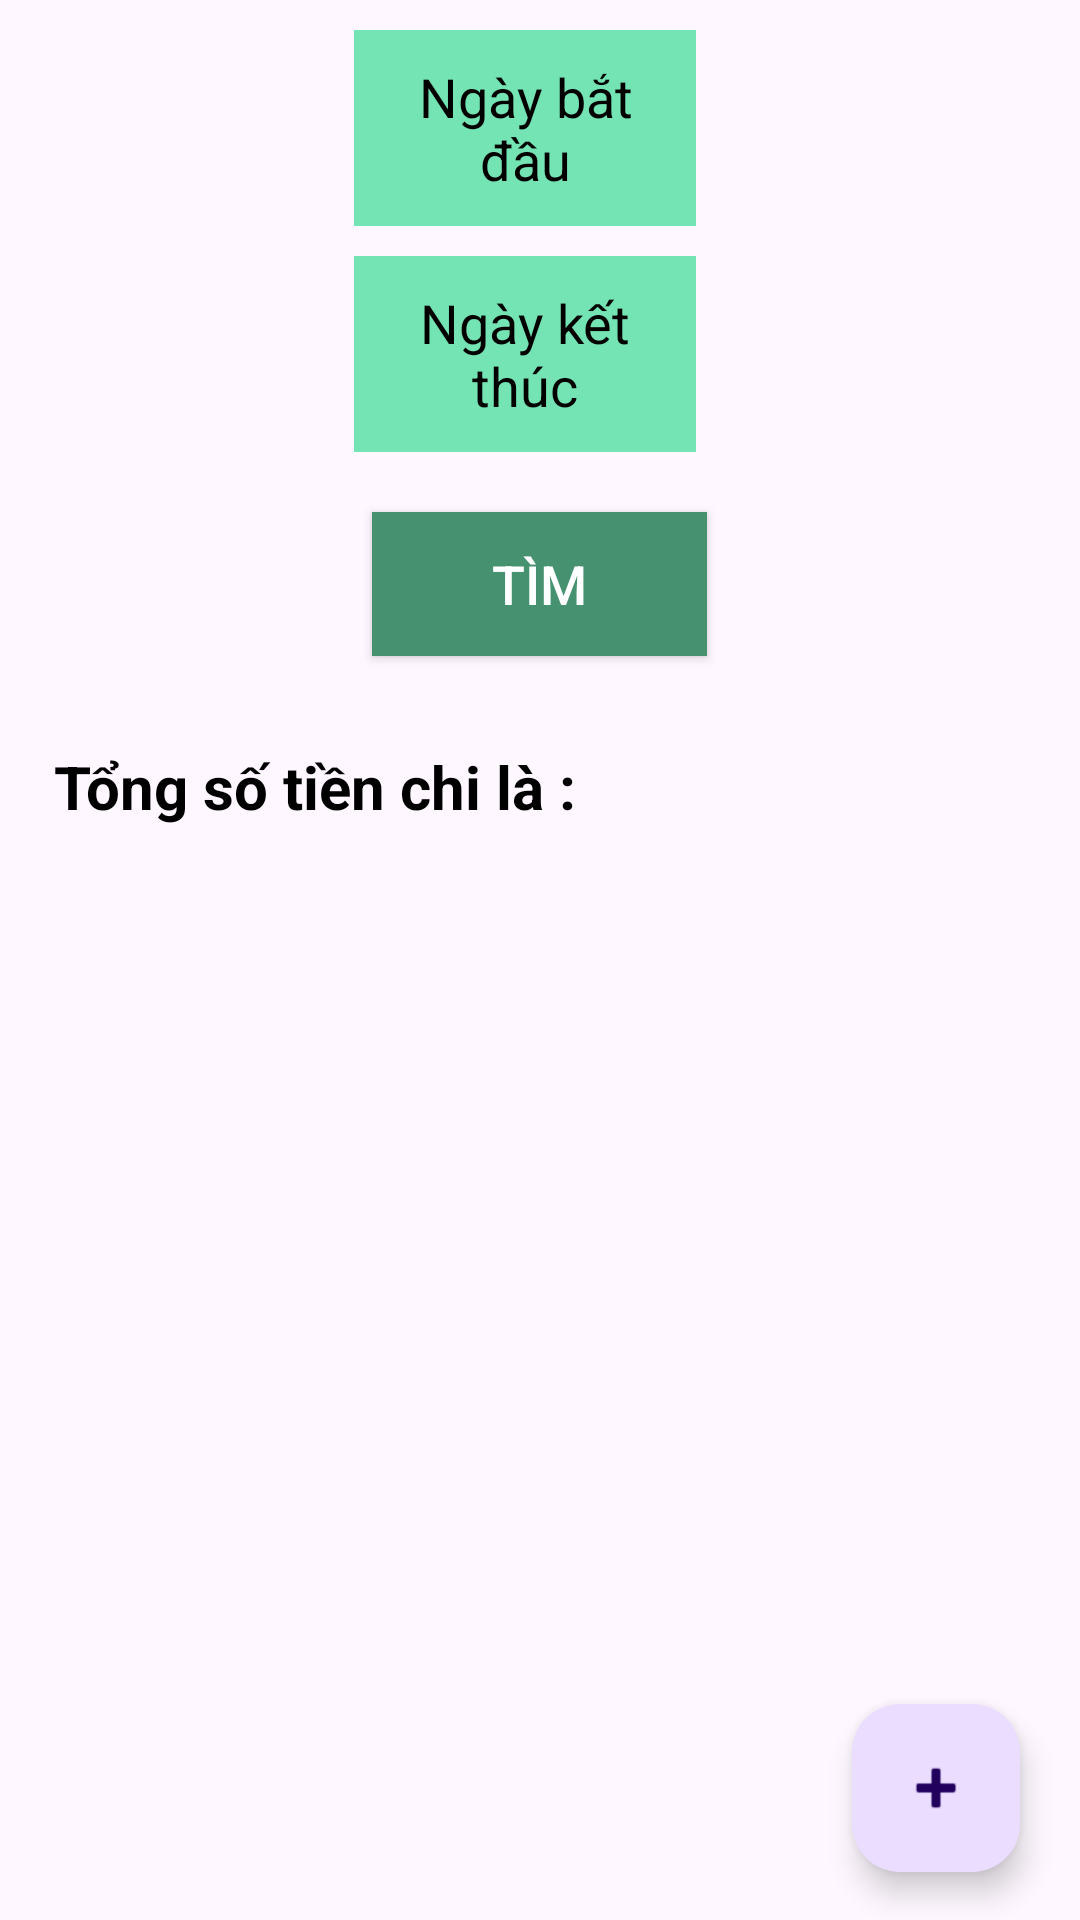

Screen size 1080 × 1920. Icon name, then its box in pixels as (x1, y1, x2, y2):
add: (852, 1704, 1020, 1872)
